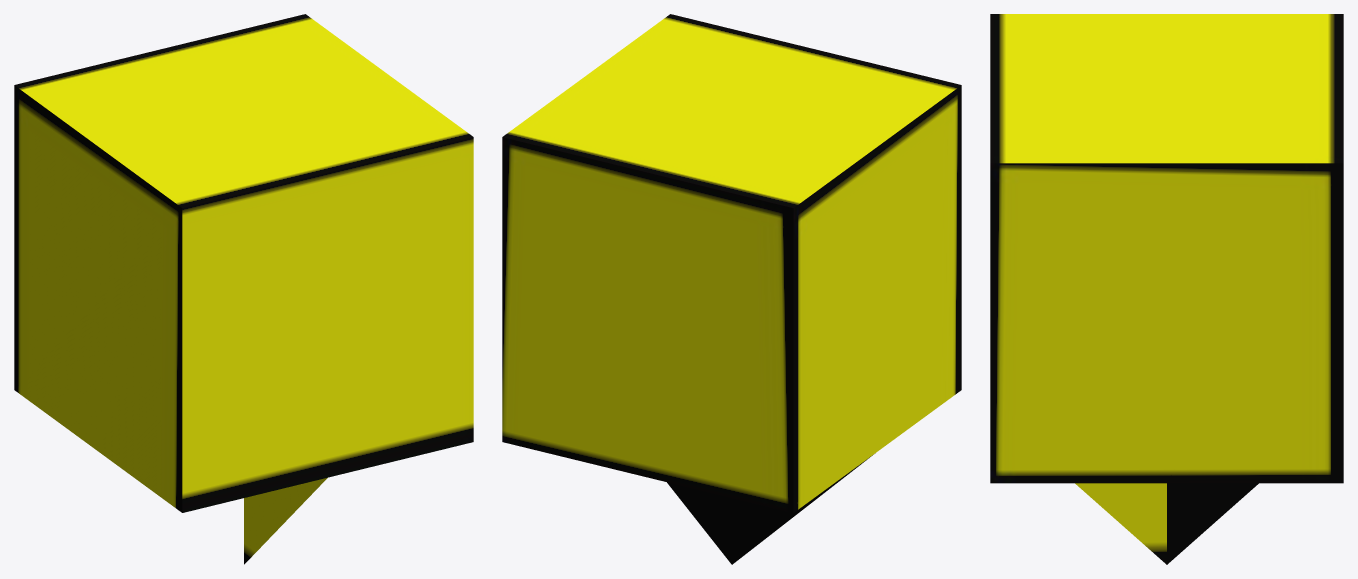
File: pin_poi.gltf
The picture shows the model from 3 angles, left to right: view 1: azimuth 30°, elevation 25°; view 2: azimuth 150°, elevation 25°; view 3: azimuth 270°, elevation 25°; orthographic projection. The views are drawn at different scales.
Parts seen in each view (by area): view 1: Cube; view 2: Cube; view 3: Cube.
Boxes of the visible parts, box(x1,y1,x2,y2) form: Cube: box(14, 14, 473, 564); Cube: box(502, 14, 961, 564); Cube: box(990, 14, 1343, 564).
Bounding box in the file's own units: 2 × 2.98 × 2.
2 materials, 1 textured.
